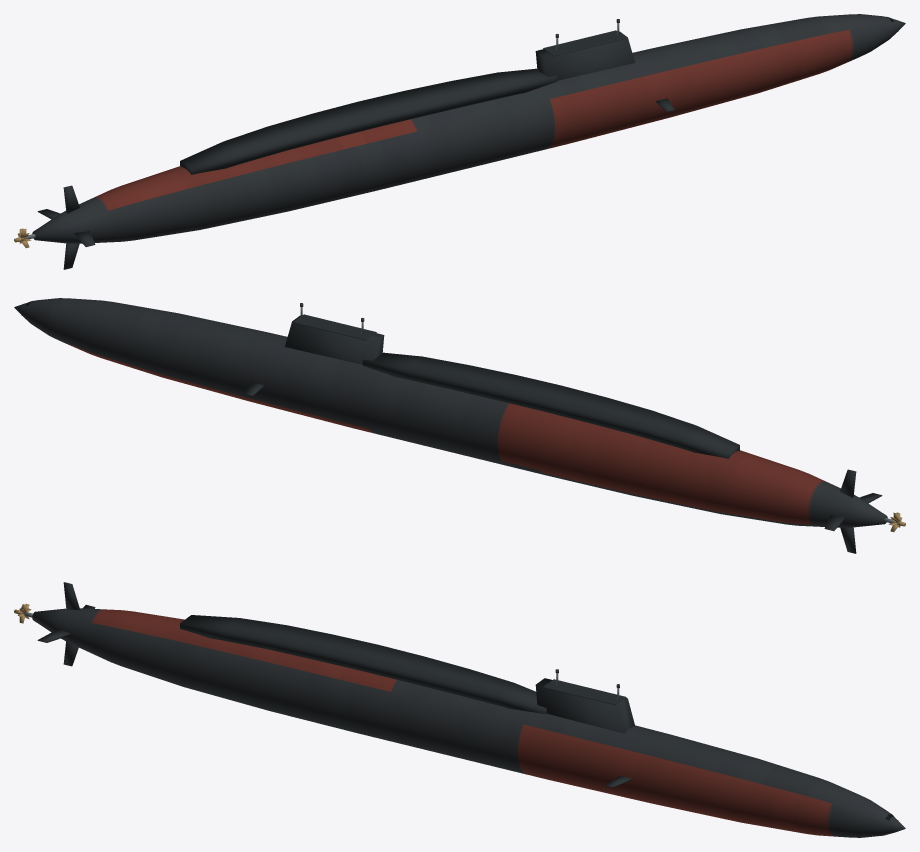
The model's file is RU_SSBN_DeltaIII_LOD2.fbx.
3 renders of one model, top to bottom at view 1: azimuth 30°, elevation 25°; view 2: azimuth 150°, elevation 25°; view 3: azimuth 330°, elevation 25°, orthographic.
Visible parts, largest first — view 1: RU_SSBN_DeltaIII_LOD2; view 2: RU_SSBN_DeltaIII_LOD2; view 3: RU_SSBN_DeltaIII_LOD2.
Part boxes in pixels (x1,y1,x2,y2): RU_SSBN_DeltaIII_LOD2: (14, 14, 905, 269); RU_SSBN_DeltaIII_LOD2: (14, 298, 905, 553); RU_SSBN_DeltaIII_LOD2: (14, 582, 905, 837).
Bounding box in the file's own units: 170 × 20.56 × 20.9.
6 materials, 1 textured.
